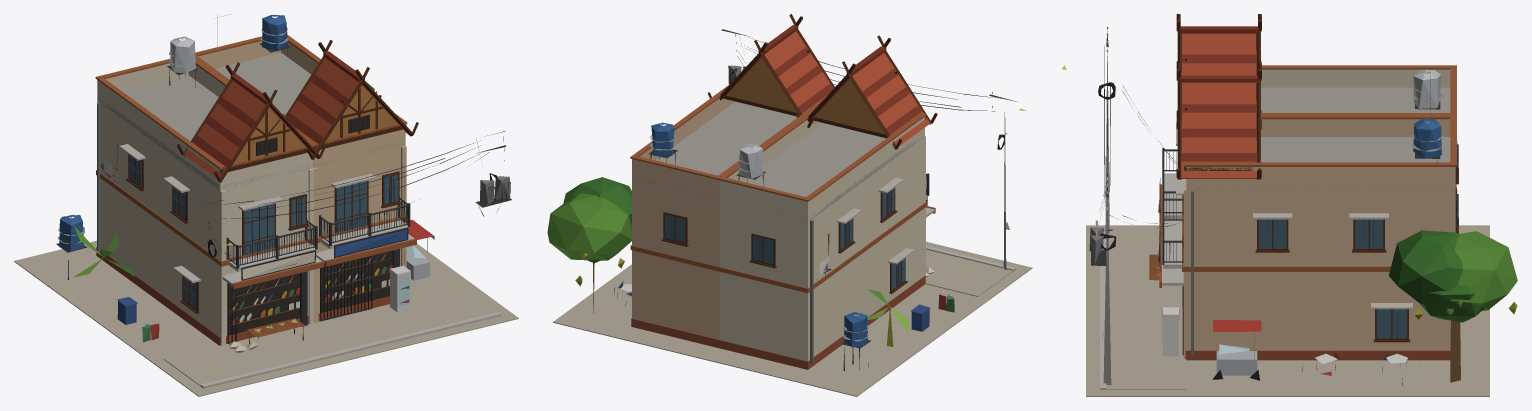
The model's file is shop_2.glb.
3 views of the same model, side by side, from view 1: azimuth 30°, elevation 25°; view 2: azimuth 150°, elevation 25°; view 3: azimuth 270°, elevation 25° (orthographic). The views are drawn at different scales.
Parts seen in each view (by area): view 1: body, windows; view 2: body, windows; view 3: body, windows.
Part boxes in pixels (x1,y1,x2,y2): body: (14, 14, 518, 396); windows: (129, 114, 398, 335); body: (547, 14, 1032, 396); windows: (664, 108, 1026, 289); body: (1086, 14, 1517, 396); windows: (1062, 65, 1457, 338).
Bounding box in the file's own units: 16.48 × 11.78 × 17.98.
